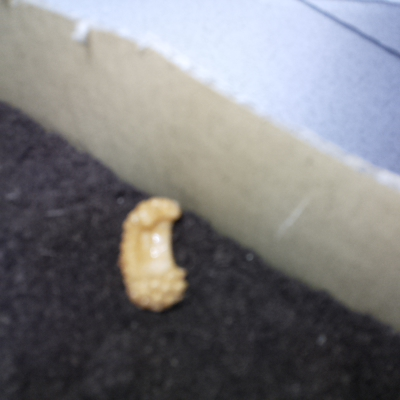eggs: (106, 186, 200, 320)
